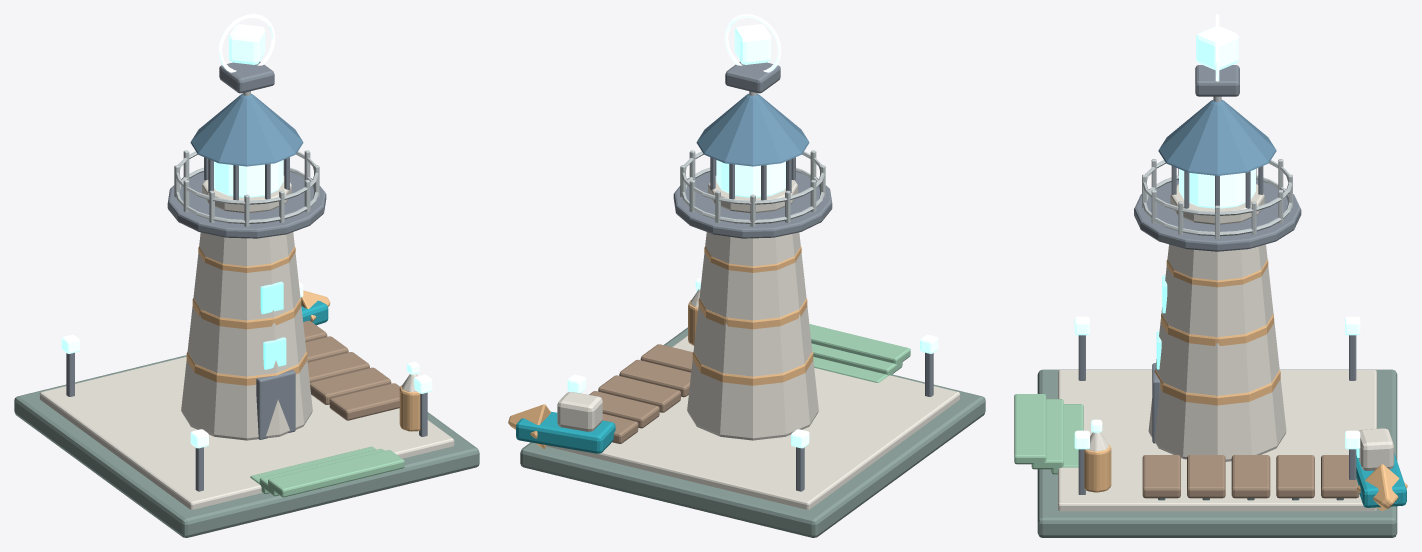
File: 05-lighthouse.glb
The picture shows the model from 3 angles, left to right: view 1: azimuth 30°, elevation 25°; view 2: azimuth 150°, elevation 25°; view 3: azimuth 270°, elevation 25°; orthographic projection. The views are drawn at different scales.
Visible parts, largest first — view 1: Lighthouse_Plaza, Lighthouse_Shaft, Lighthouse_Plinth, Lighthouse_Roof, Lighthouse_BalconyDeck, Lighthouse_Step_2, Lighthouse_Door, Lighthouse_Lens, Lighthouse_PierDeck_0, Lighthouse_PierDeck_1, Lighthouse_BeaconCube, Lighthouse_BeaconBase (+14 smaller); view 2: Lighthouse_Plaza, Lighthouse_Shaft, Lighthouse_Plinth, Lighthouse_Roof, Lighthouse_BalconyDeck, Lighthouse_BoatHull, Lighthouse_Step_2, Lighthouse_Lens, Lighthouse_PierDeck_2, Lighthouse_BoatCabin, Lighthouse_PierDeck_1, Lighthouse_BeaconCube (+14 smaller); view 3: Lighthouse_Shaft, Lighthouse_Plaza, Lighthouse_Plinth, Lighthouse_Roof, Lighthouse_BalconyDeck, Lighthouse_Step_2, Lighthouse_Lens, Lighthouse_PierDeck_2, Lighthouse_PierDeck_1, Lighthouse_PierDeck_3, Lighthouse_PierDeck_0, Lighthouse_BeaconCube (+14 smaller).
Boxes of the visible parts, x1,y1,x2,y2 form: Lighthouse_Plaza: (39,356,454,509); Lighthouse_Shaft: (181,232,312,440); Lighthouse_Plinth: (14,355,479,537); Lighthouse_Roof: (190,93,303,166); Lighthouse_BalconyDeck: (167,172,326,238); Lighthouse_Step_2: (268,450,404,497); Lighthouse_Door: (256,370,295,439); Lighthouse_Lens: (214,160,283,197); Lighthouse_PierDeck_0: (329,383,399,420); Lighthouse_PierDeck_1: (310,367,391,404); Lighthouse_BeaconCube: (228,24,265,64); Lighthouse_BeaconBase: (219,61,274,93); Lighthouse_Plaza: (546,335,960,509); Lighthouse_Shaft: (687,232,818,440); Lighthouse_Plinth: (520,327,985,537); Lighthouse_Roof: (696,93,809,166); Lighthouse_BalconyDeck: (673,172,832,238); Lighthouse_BoatHull: (516,411,615,453); Lighthouse_Step_2: (809,324,910,364); Lighthouse_Lens: (716,160,785,197); Lighthouse_PierDeck_2: (598,375,680,412); Lighthouse_BoatCabin: (557,392,602,431); Lighthouse_PierDeck_1: (619,359,691,397); Lighthouse_BeaconCube: (734,24,771,64); Lighthouse_Shaft: (1148,244,1286,461); Lighthouse_Plaza: (1058,370,1376,511); Lighthouse_Plinth: (1037,369,1397,537); Lighthouse_Roof: (1158,100,1276,175); Lighthouse_BalconyDeck: (1134,180,1301,251); Lighthouse_Step_2: (1014,394,1046,464); Lighthouse_Lens: (1179,169,1255,208); Lighthouse_PierDeck_2: (1231,455,1270,498); Lighthouse_PierDeck_1: (1187,455,1225,498); Lighthouse_PierDeck_3: (1276,455,1314,498); Lighthouse_PierDeck_0: (1142,455,1180,498); Lighthouse_BeaconCube: (1196,26,1238,70).
Size of the model in its own units: 6.07 by 7.96 by 6.35.
